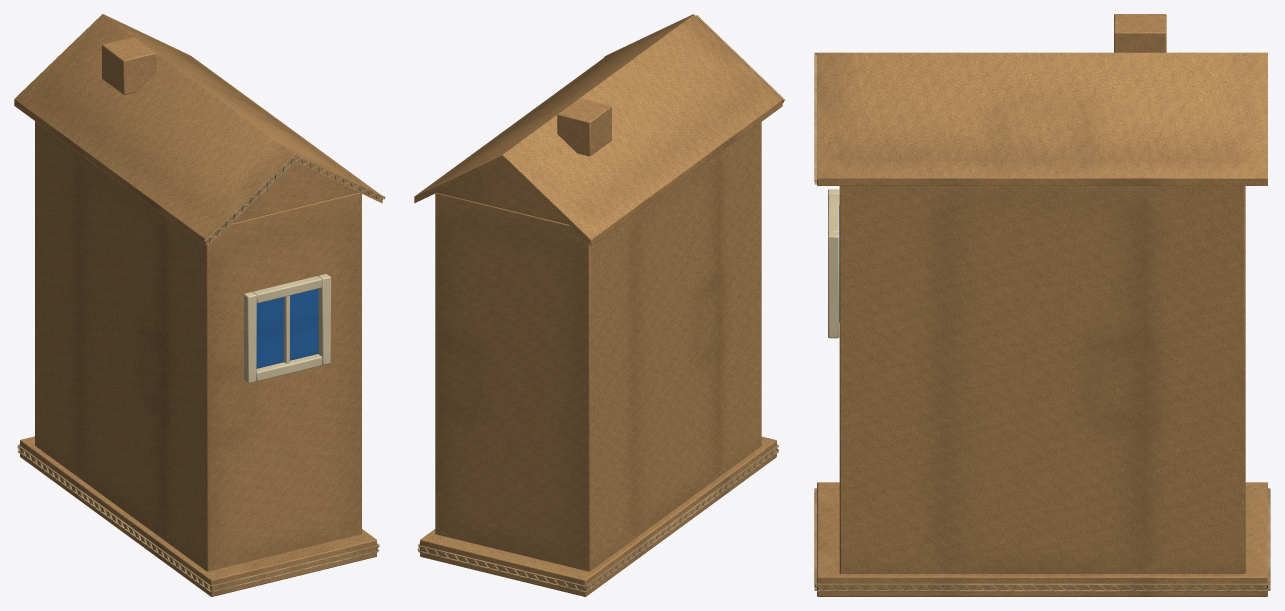
The model's file is 1-left-house-1.fbx.
3 renders of one model, left to right at view 1: azimuth 30°, elevation 25°; view 2: azimuth 150°, elevation 25°; view 3: azimuth 270°, elevation 25°, orthographic. The views are drawn at different scales.
Visible parts, largest first — view 1: left-house-1; view 2: left-house-1; view 3: left-house-1.
Boxes of the visible parts, bbox=[...] form: left-house-1: bbox=[14, 14, 385, 596]; left-house-1: bbox=[414, 14, 785, 596]; left-house-1: bbox=[814, 14, 1270, 596].
Bounding box in the file's own units: 3261 × 7500 × 6075.
1 material, 1 textured.
